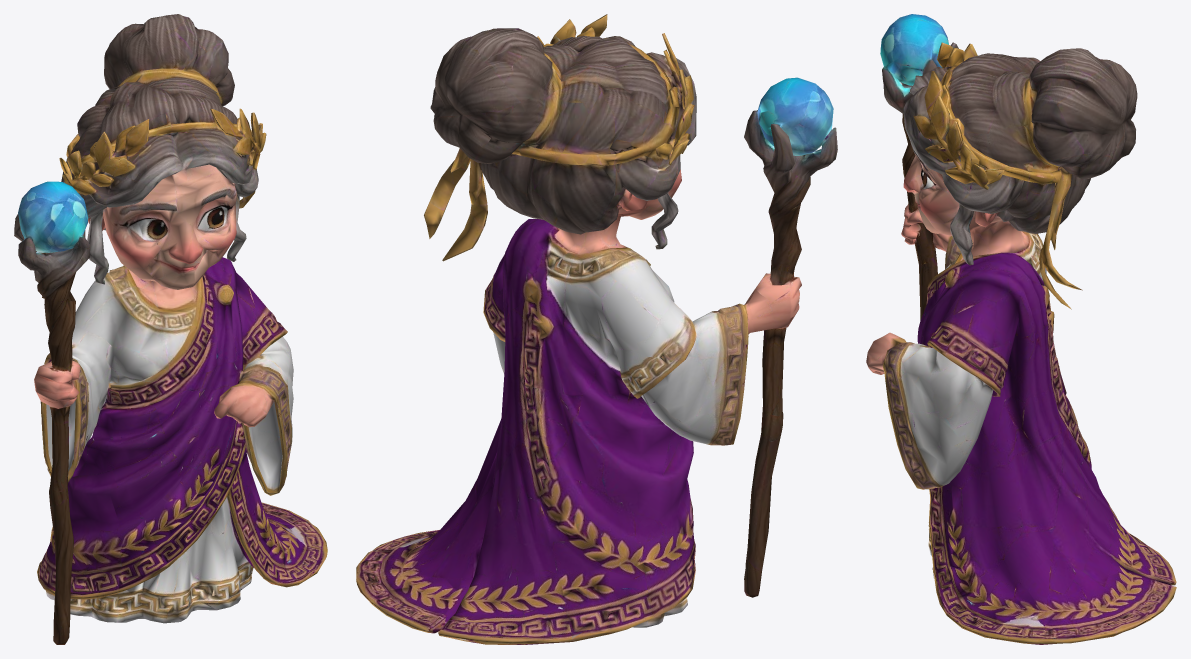
File: vestec_f.glb
3 renders of one model, left to right at view 1: azimuth 30°, elevation 25°; view 2: azimuth 150°, elevation 25°; view 3: azimuth 270°, elevation 25°, orthographic. The views are drawn at different scales.
Bounding box in the file's own units: 1.35 × 1.9 × 1.01.
Materials: 1 (1 with a texture image).
